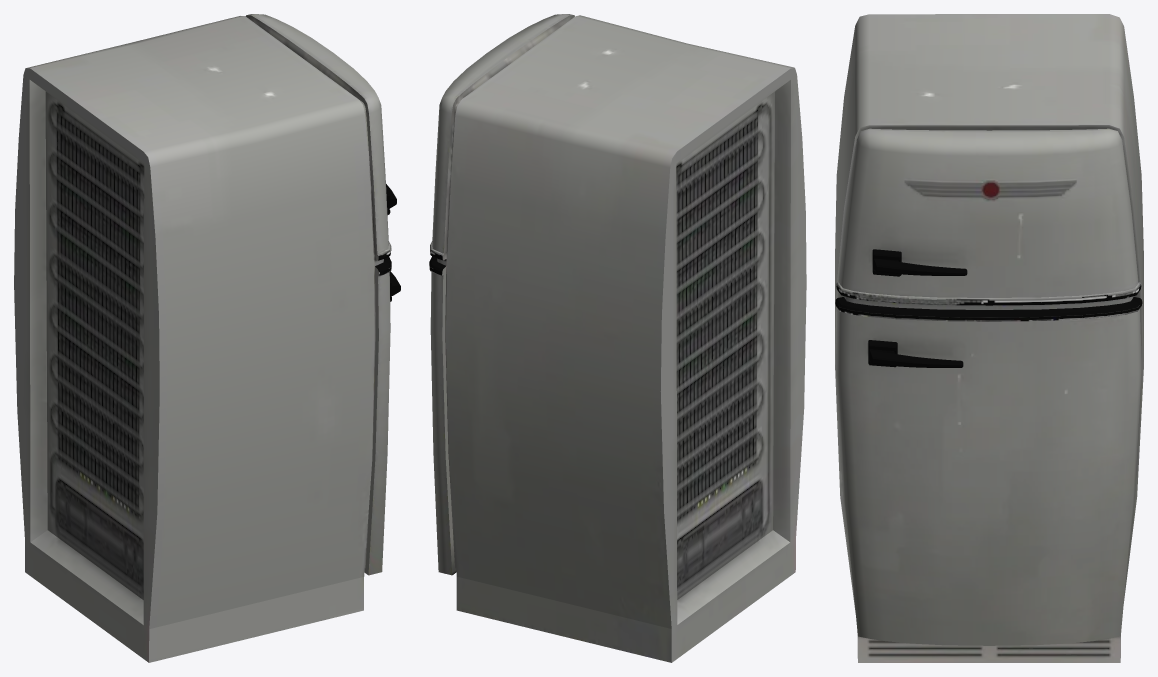
3 renders of one model, left to right at view 1: azimuth 30°, elevation 25°; view 2: azimuth 150°, elevation 25°; view 3: azimuth 270°, elevation 25°, orthographic. The views are drawn at different scales.
Visible parts, largest first — view 1: body0_model0_lod0_mesh0; view 2: body0_model0_lod0_mesh0; view 3: body0_model0_lod0_mesh0.
Part boxes in pixels (box(x1,y1,x2,y2)): body0_model0_lod0_mesh0: box(14, 14, 400, 662); body0_model0_lod0_mesh0: box(429, 14, 806, 662); body0_model0_lod0_mesh0: box(835, 14, 1143, 662).
Bounding box in the file's own units: 46.69 × 83.96 × 43.71.
1 material, 1 textured.
